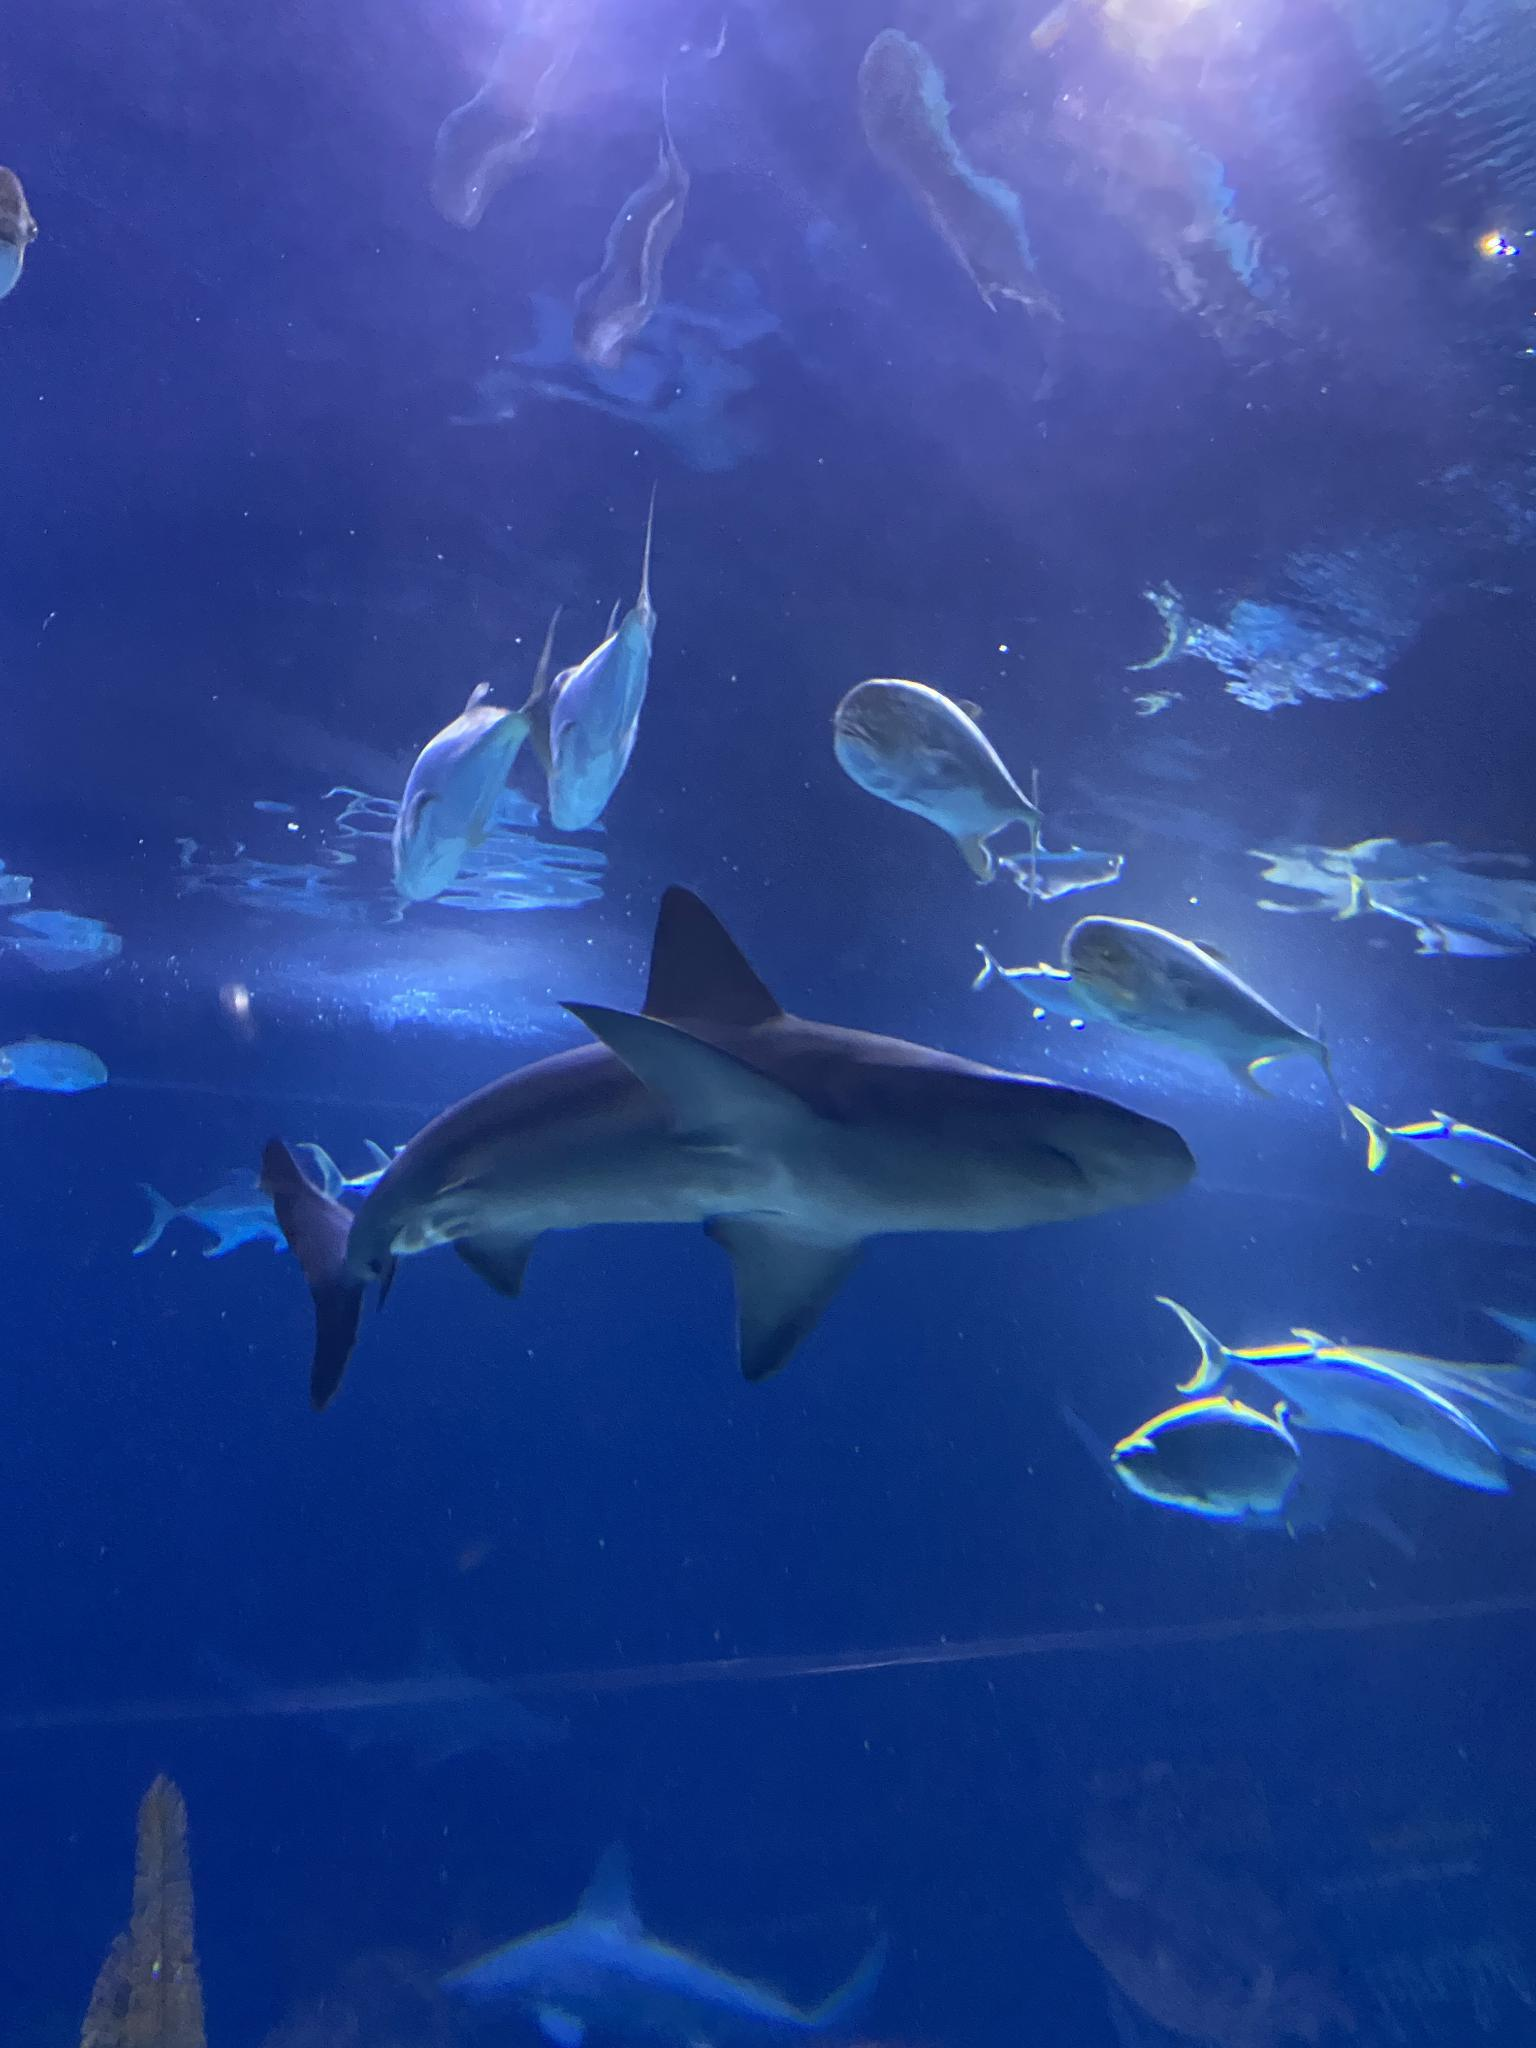fish: (1154, 1293, 1509, 1496), (1065, 916, 1341, 1118), (390, 605, 565, 905), (831, 677, 1039, 913), (547, 511, 658, 835), (1113, 1388, 1304, 1521), (1347, 1101, 1534, 1209), (131, 1168, 287, 1259), (295, 1138, 408, 1201), (0, 1035, 111, 1097), (0, 164, 39, 305)
shark: (260, 884, 1197, 1417), (431, 1838, 891, 2048), (194, 1617, 571, 1784)
